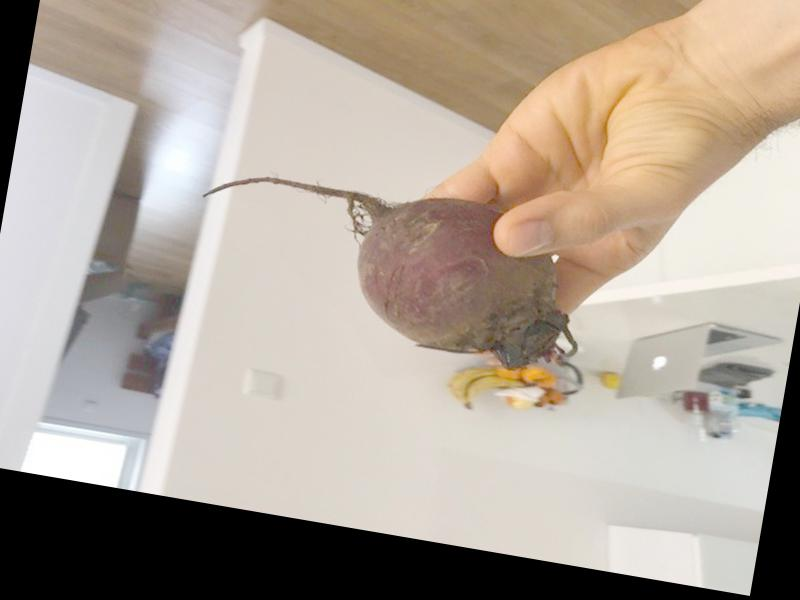Beet: (181, 157, 597, 377)
